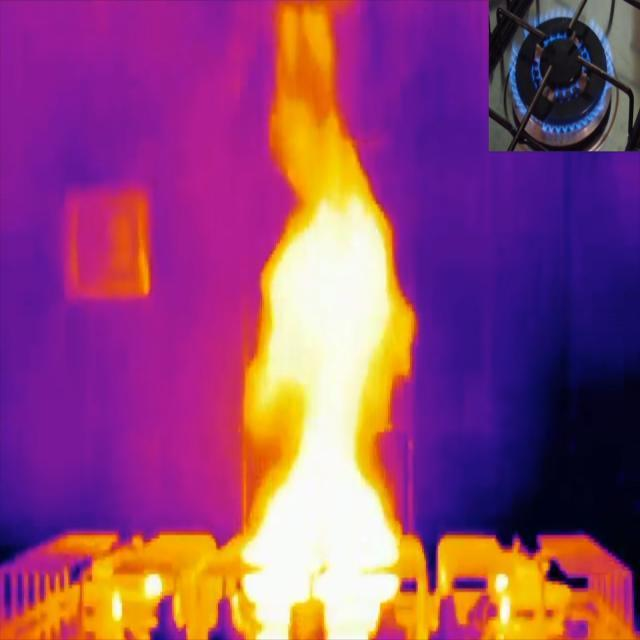fire: (225, 195, 416, 639), (101, 569, 173, 629), (480, 571, 519, 629)
